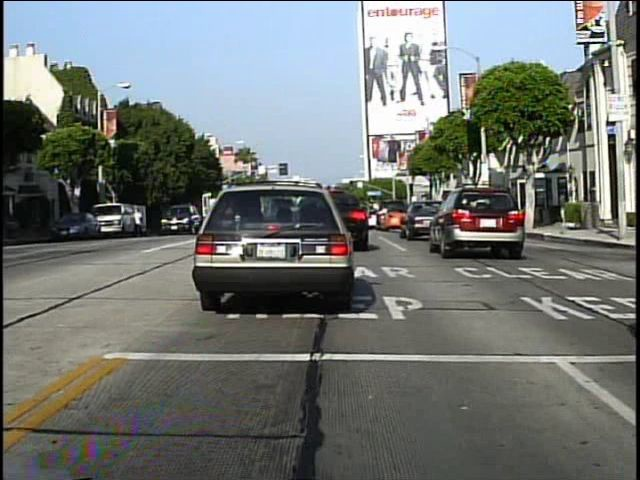person: (132, 204, 145, 238)
